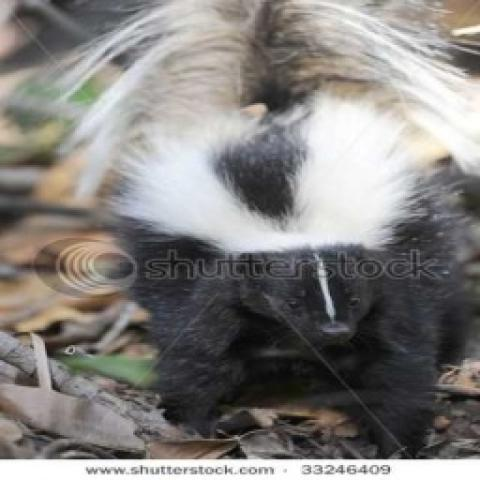small_animal: (56, 0, 478, 454)
